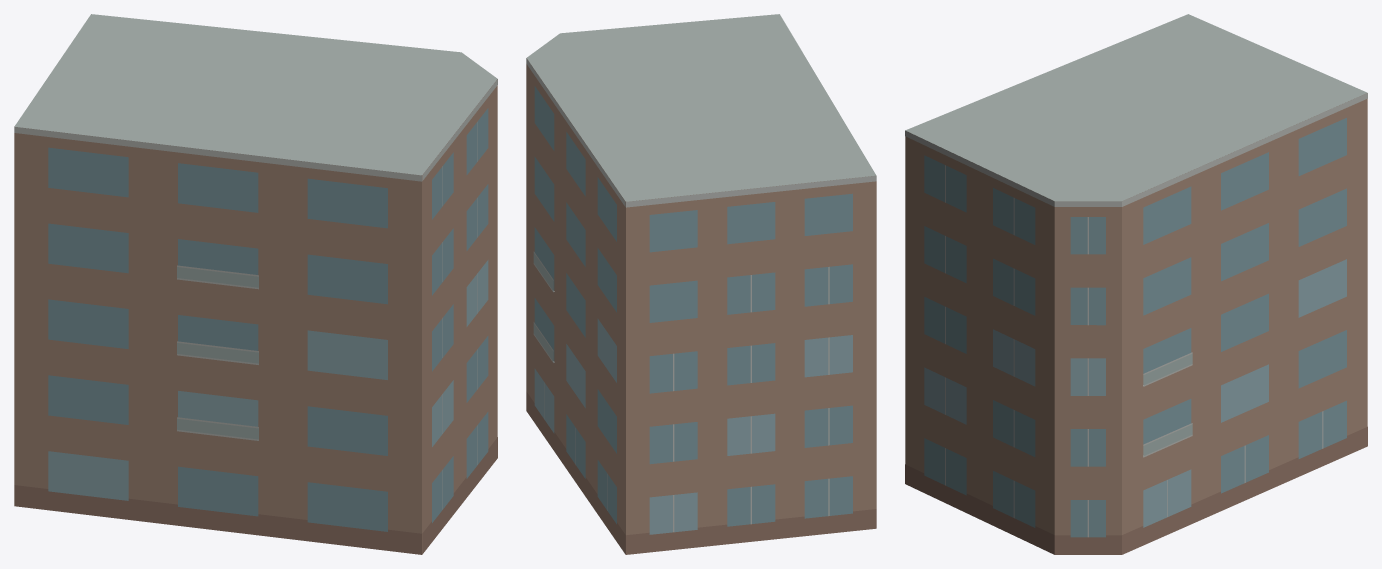
File: survey-upis-32856278.glb
3 renders of one model, left to right at view 1: azimuth 30°, elevation 25°; view 2: azimuth 150°, elevation 25°; view 3: azimuth 270°, elevation 25°, orthographic. The views are drawn at different scales.
Visible parts, largest first — view 1: survey-upis-32856278.tmp; view 2: survey-upis-32856278.tmp; view 3: survey-upis-32856278.tmp.
Part boxes in pixels (x1,y1,x2,y2): survey-upis-32856278.tmp: (14, 14, 497, 554); survey-upis-32856278.tmp: (526, 14, 876, 554); survey-upis-32856278.tmp: (905, 14, 1367, 554).
Size of the model in its own units: 16.99 by 14.95 by 17.73.
